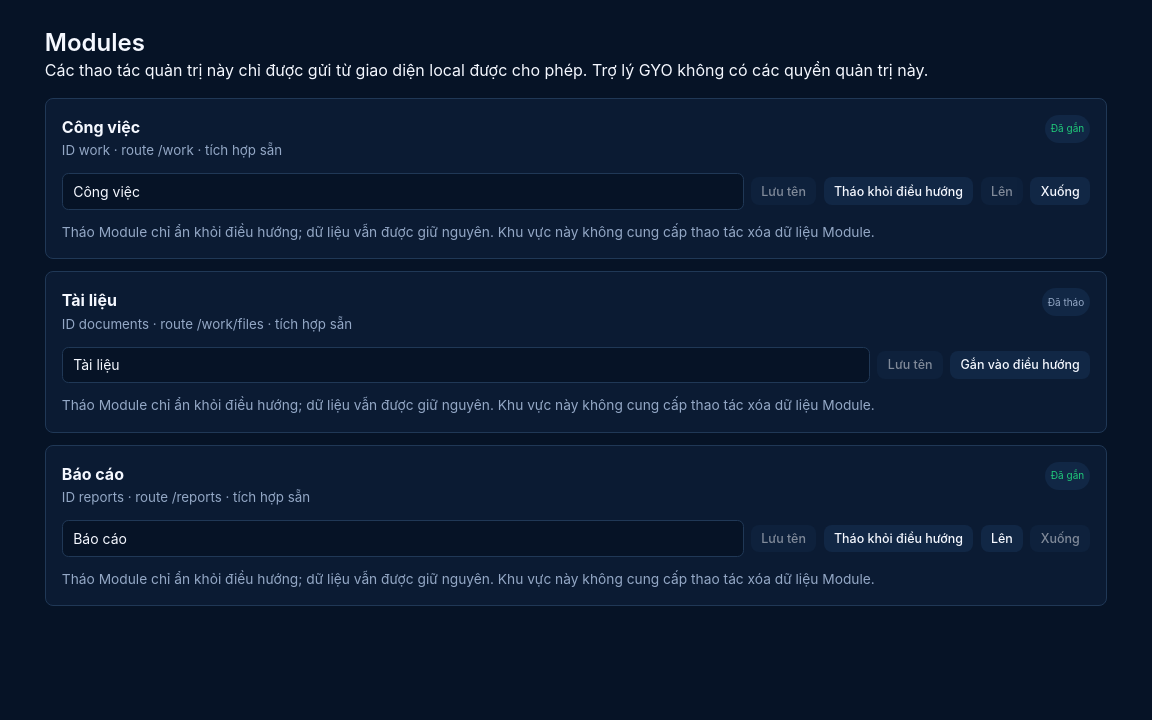
Scenario: ModulesSettings › detaches without presenting any data deletion action
Click the 1st button "Tháo khỏi điều hướng".
click(898, 191)  # box [824,177,973,205]
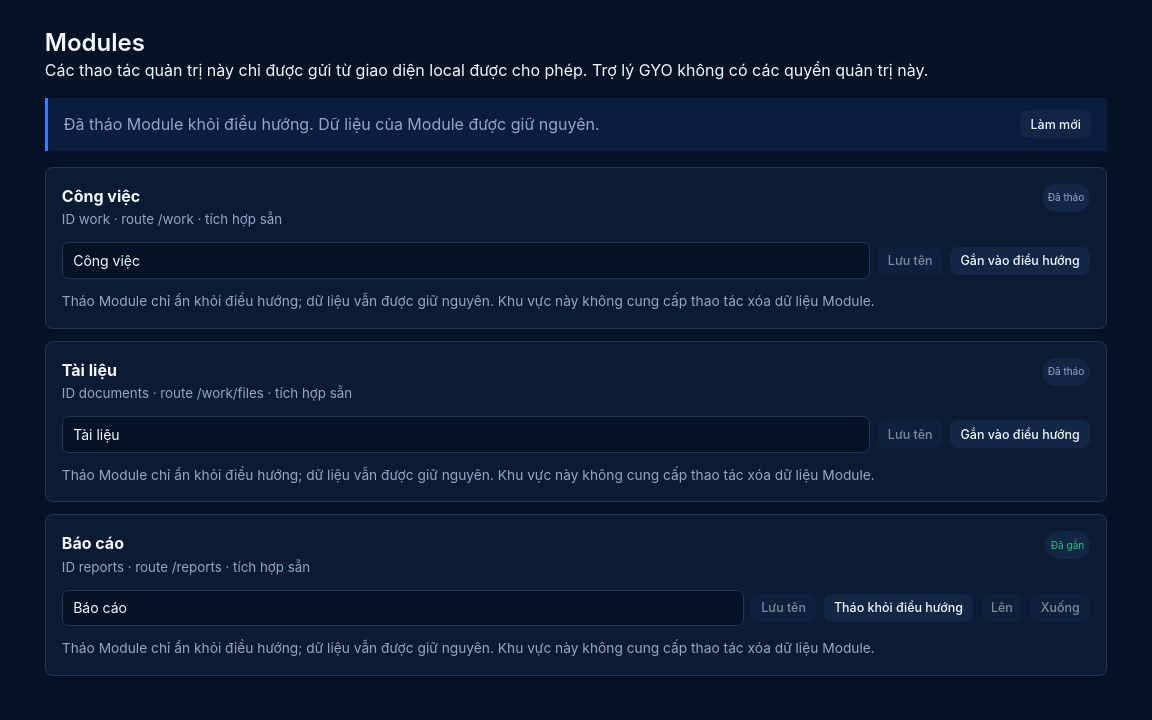
Expected: the text "Đã tháo Module khỏi điều hướng. Dữ liệu của Module được giữ nguyên. Làm mới" is shown, [45,98,1107,151]
